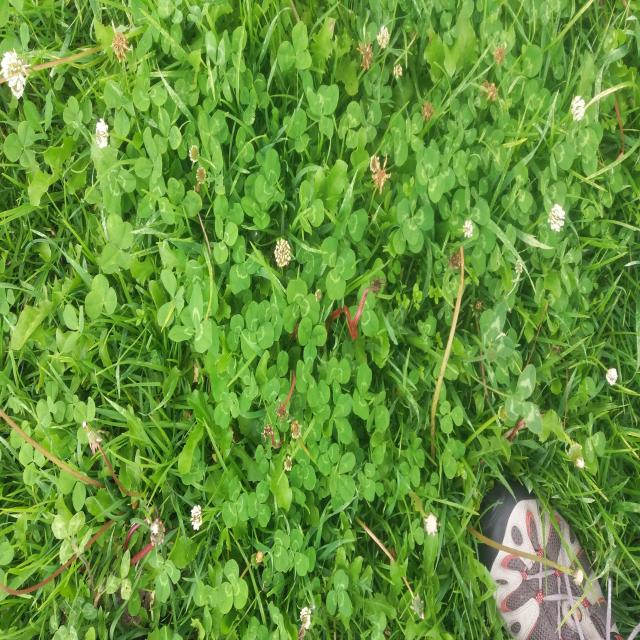Four Leaf Clover: (100, 212, 133, 274)
